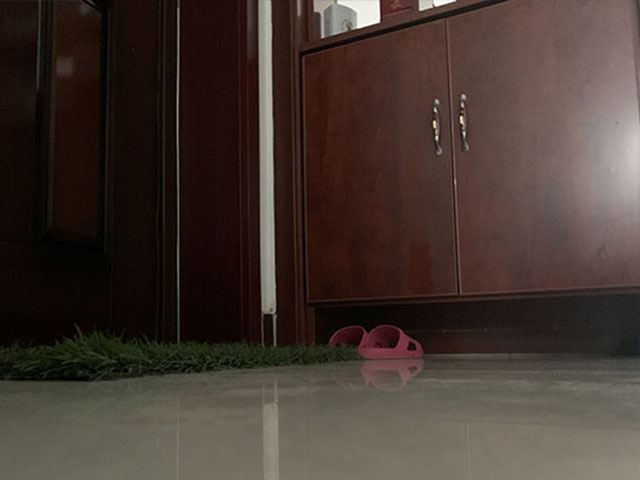cabinet: (269, 1, 640, 354)
carpet: (2, 328, 365, 383)
slippers: (356, 324, 425, 354), (328, 327, 366, 354)
